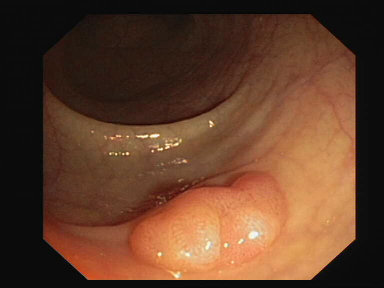polyp: (112, 149, 315, 272)
